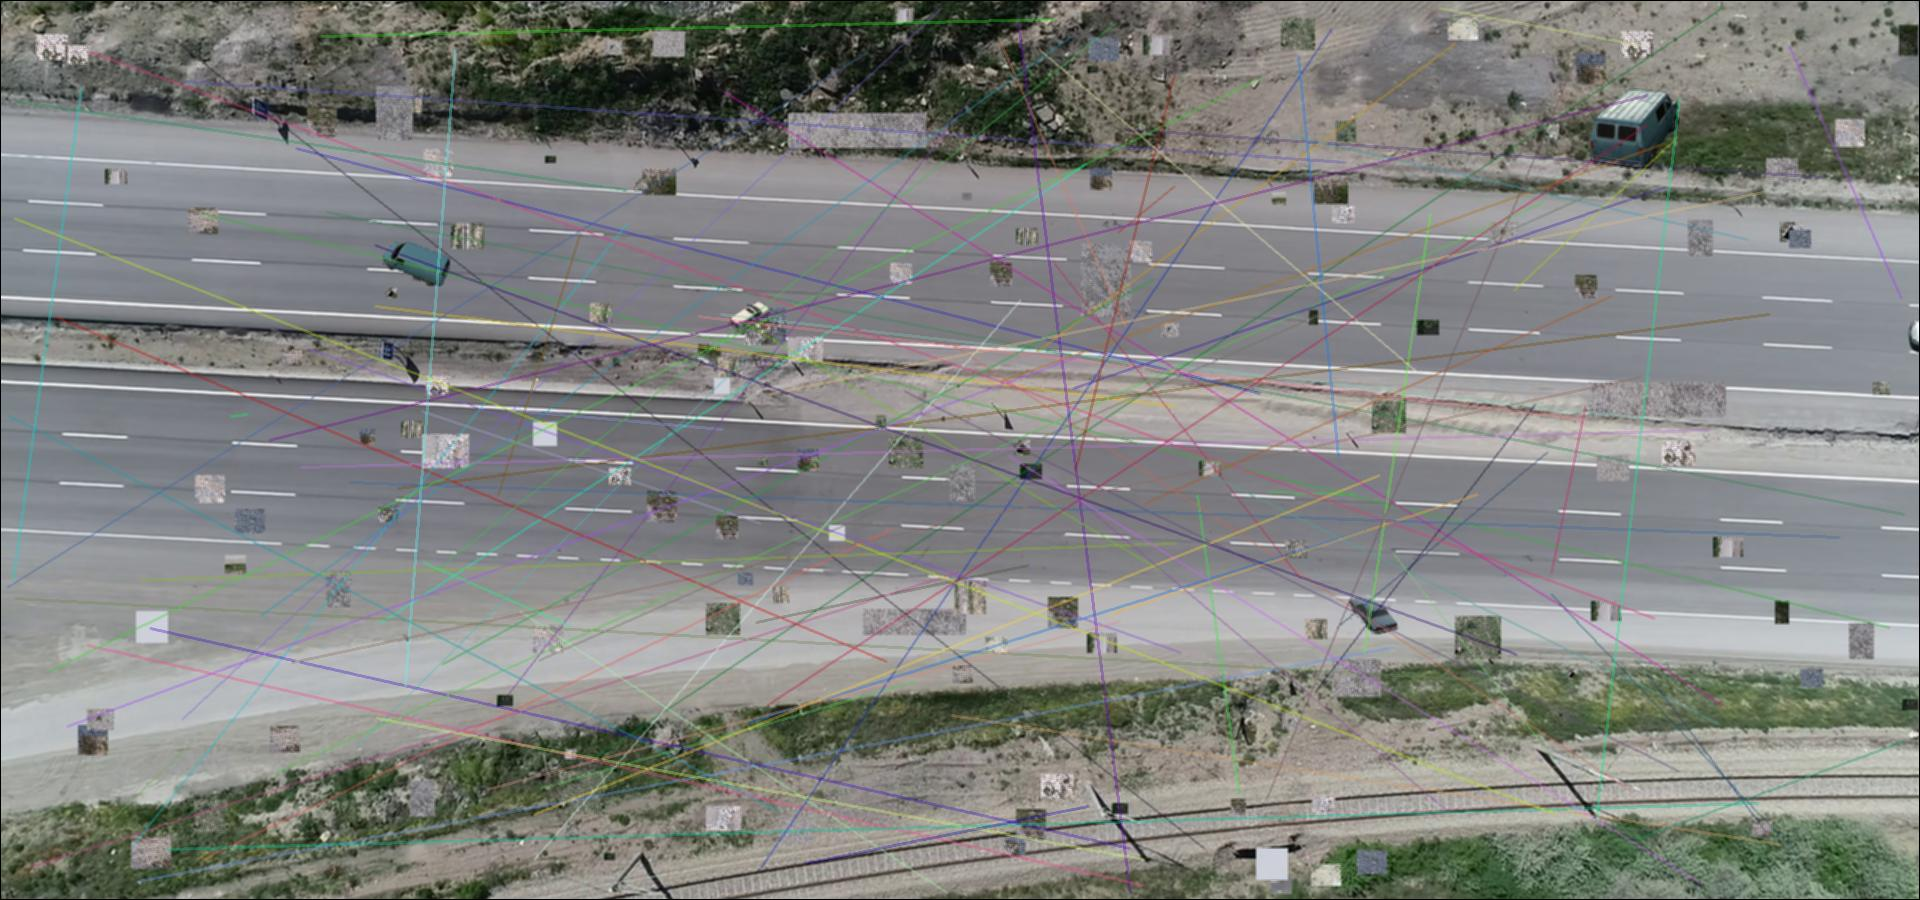arac: (1587, 84, 1682, 169), (383, 241, 451, 287), (1348, 594, 1398, 634), (729, 302, 771, 336)
